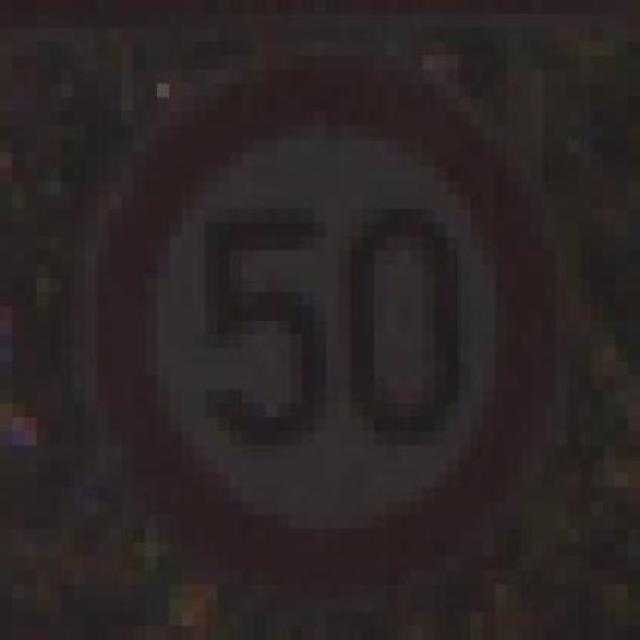forb_speed_over_50: (103, 63, 555, 591)
